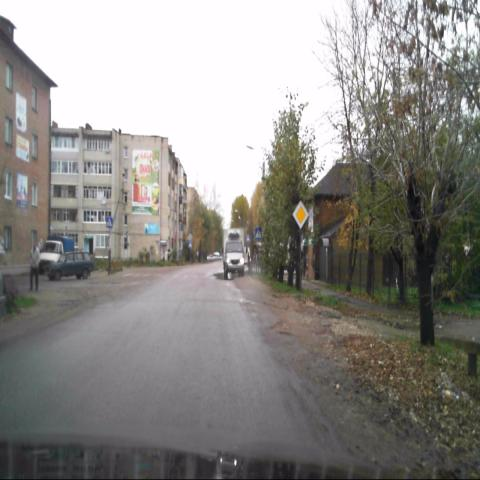2_1: (292, 200, 309, 229)
5_19_1: (255, 227, 262, 240), (106, 215, 112, 227)
